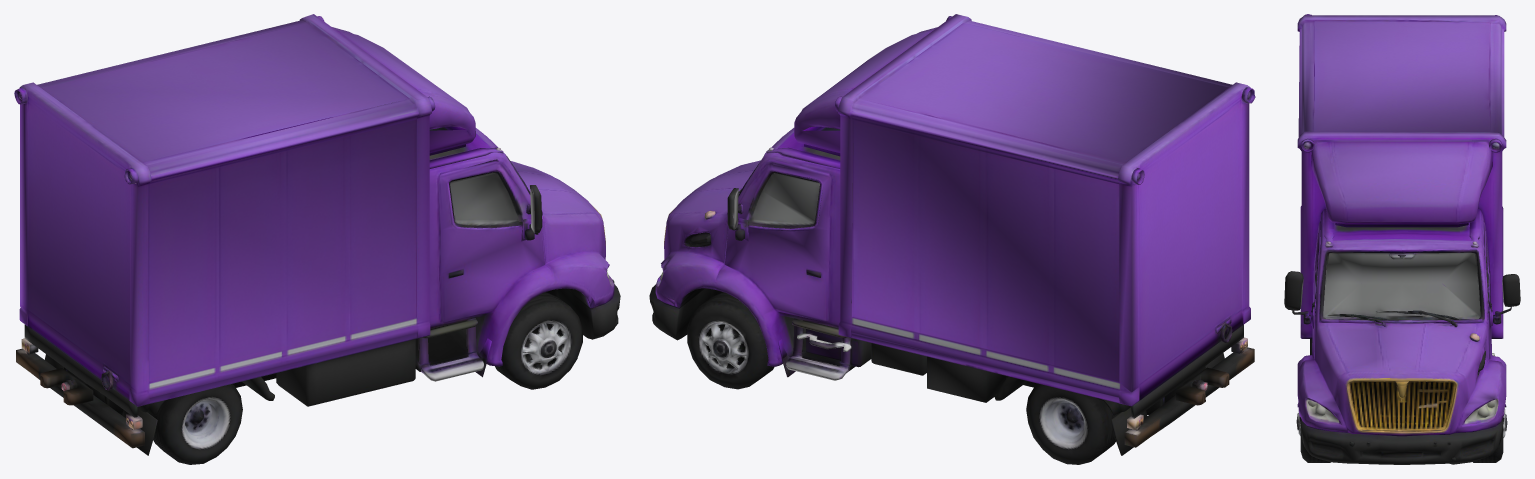
The model's file is r33-truck.glb.
3 views of the same model, side by side, from view 1: azimuth 30°, elevation 25°; view 2: azimuth 150°, elevation 25°; view 3: azimuth 270°, elevation 25° (orthographic). The views are drawn at different scales.
Visible parts, largest first — view 1: tripo_node_404e3a7a-dd16-47ed-82f2-d8a891018b55; view 2: tripo_node_404e3a7a-dd16-47ed-82f2-d8a891018b55; view 3: tripo_node_404e3a7a-dd16-47ed-82f2-d8a891018b55.
Part boxes in pixels (x1,y1,x2,y2): tripo_node_404e3a7a-dd16-47ed-82f2-d8a891018b55: (14,14,620,464); tripo_node_404e3a7a-dd16-47ed-82f2-d8a891018b55: (649,14,1255,464); tripo_node_404e3a7a-dd16-47ed-82f2-d8a891018b55: (1284,14,1520,464).
Bounding box in the file's own units: 0.998 × 0.5801 × 0.4512.
Materials: 1 (1 with a texture image).
